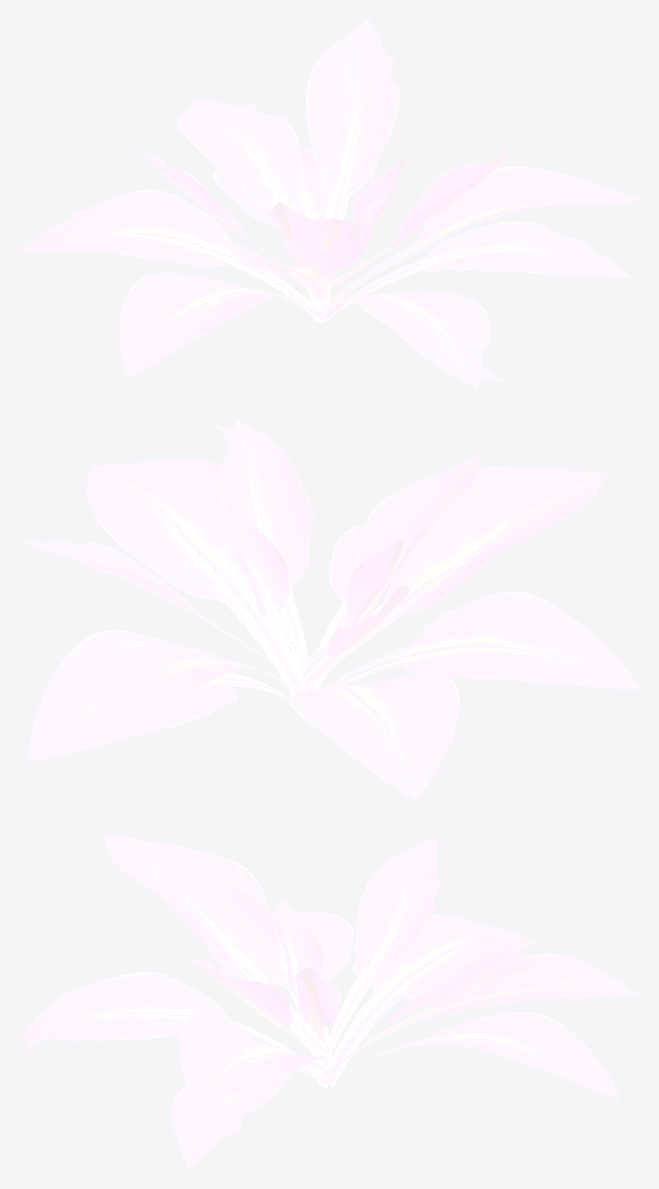
The picture shows the model from 3 angles, top to bottom: view 1: azimuth 30°, elevation 25°; view 2: azimuth 150°, elevation 25°; view 3: azimuth 270°, elevation 25°; orthographic projection. The views are drawn at different scales.
Parts seen in each view (by area): view 1: SM_GF_Sm_Plant_03_LOD0; view 2: SM_GF_Sm_Plant_03_LOD0; view 3: SM_GF_Sm_Plant_03_LOD0.
Part boxes in pixels (left/top/right/bottom): SM_GF_Sm_Plant_03_LOD0: left=18, top=19, right=640, bottom=388; SM_GF_Sm_Plant_03_LOD0: left=19, top=420, right=640, bottom=800; SM_GF_Sm_Plant_03_LOD0: left=18, top=834, right=638, bottom=1169.
Size of the model in its own units: 0.7938 by 0.291 by 0.8443.
1 material, 1 textured.
